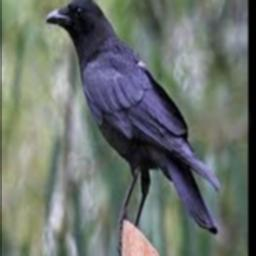Crow: (46, 0, 222, 256)
